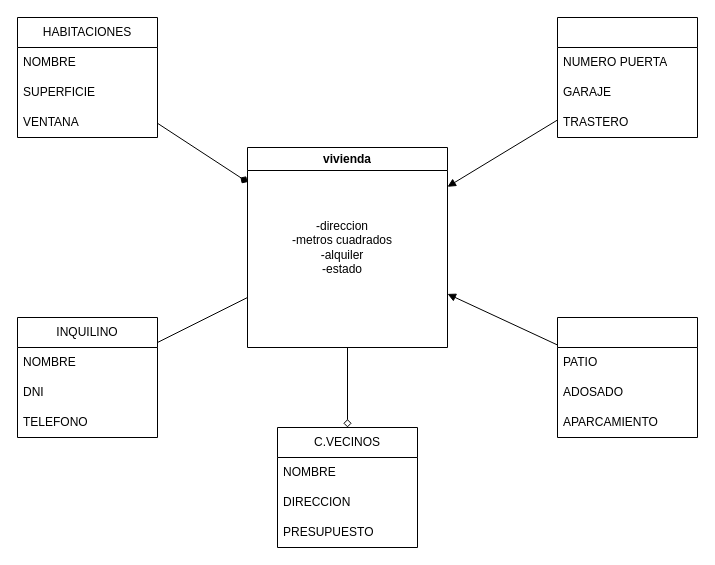
Some shapes in this 715 by 565 pixel diagram are drawn without their labels. The shapes that lost their labels are listed below. From the top down, each one's box as (x1, y1, x2, y2) in pixels, then its label:
(556, 16, 698, 138): PISOS
(556, 316, 698, 438): UNIFAMILIAR
